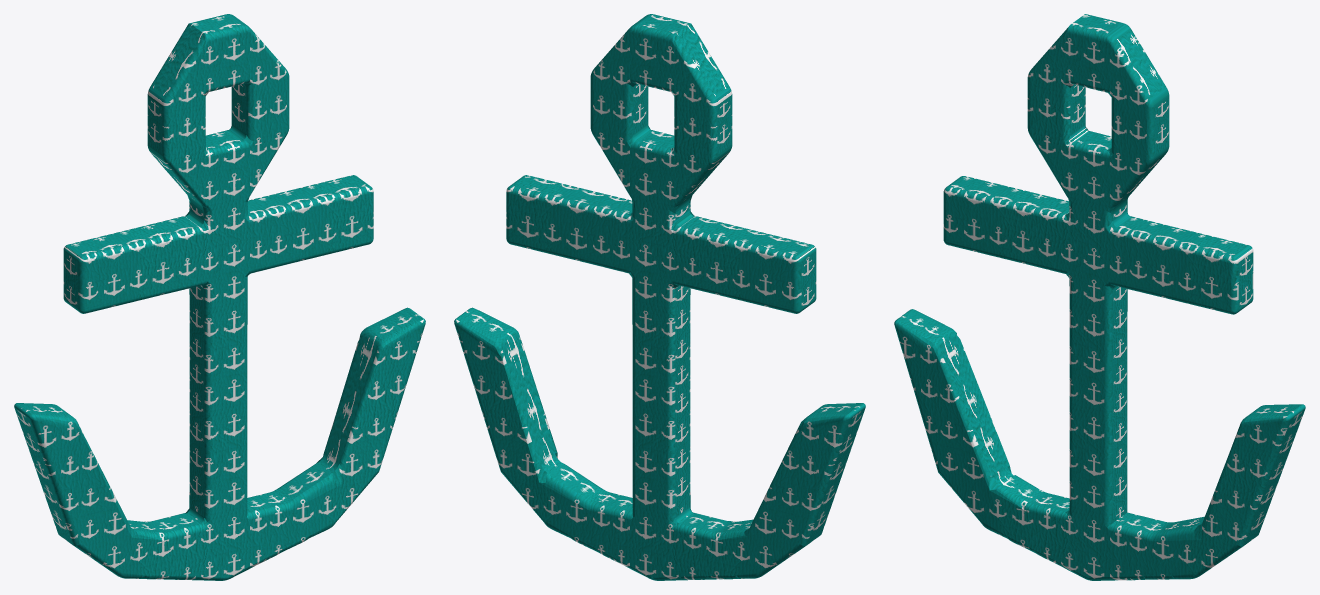
The model's file is Anchor.fbx.
3 renders of one model, left to right at view 1: azimuth 30°, elevation 25°; view 2: azimuth 150°, elevation 25°; view 3: azimuth 330°, elevation 25°, orthographic.
Visible parts, largest first — view 1: Anchor; view 2: Anchor; view 3: Anchor.
Part boxes in pixels (x1,y1,x2,y2): Anchor: (14,14,425,580); Anchor: (454,14,865,580); Anchor: (894,14,1305,580).
Bounding box in the file's own units: 4.97 × 6.6 × 0.4856.
